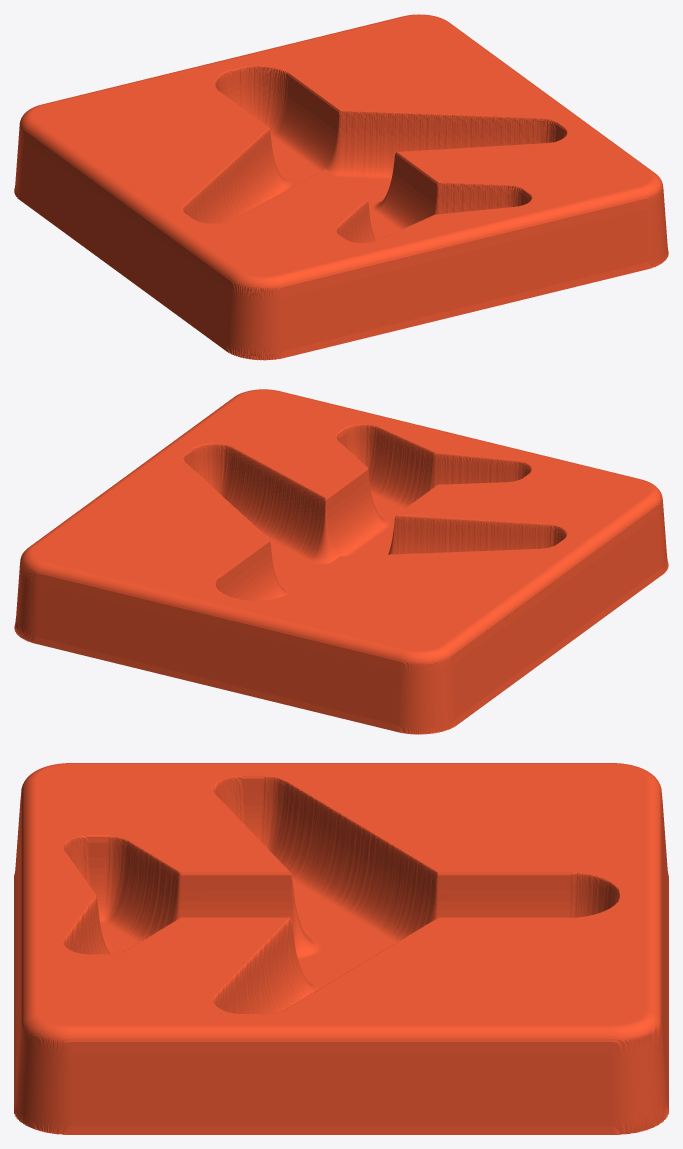
Rendered from mold.glb.
3 views of the same model, one above another, from view 1: azimuth 30°, elevation 25°; view 2: azimuth 150°, elevation 25°; view 3: azimuth 270°, elevation 25° (orthographic). The views are drawn at different scales.
Visible parts, largest first — view 1: geometry_0; view 2: geometry_0; view 3: geometry_0.
Boxes of the visible parts, <box> form: geometry_0: <box>14,14,668,360</box>; geometry_0: <box>14,389,668,734</box>; geometry_0: <box>14,763,668,1134</box>.
Bounding box in the file's own units: 0.105 × 0.0175 × 0.1038.
